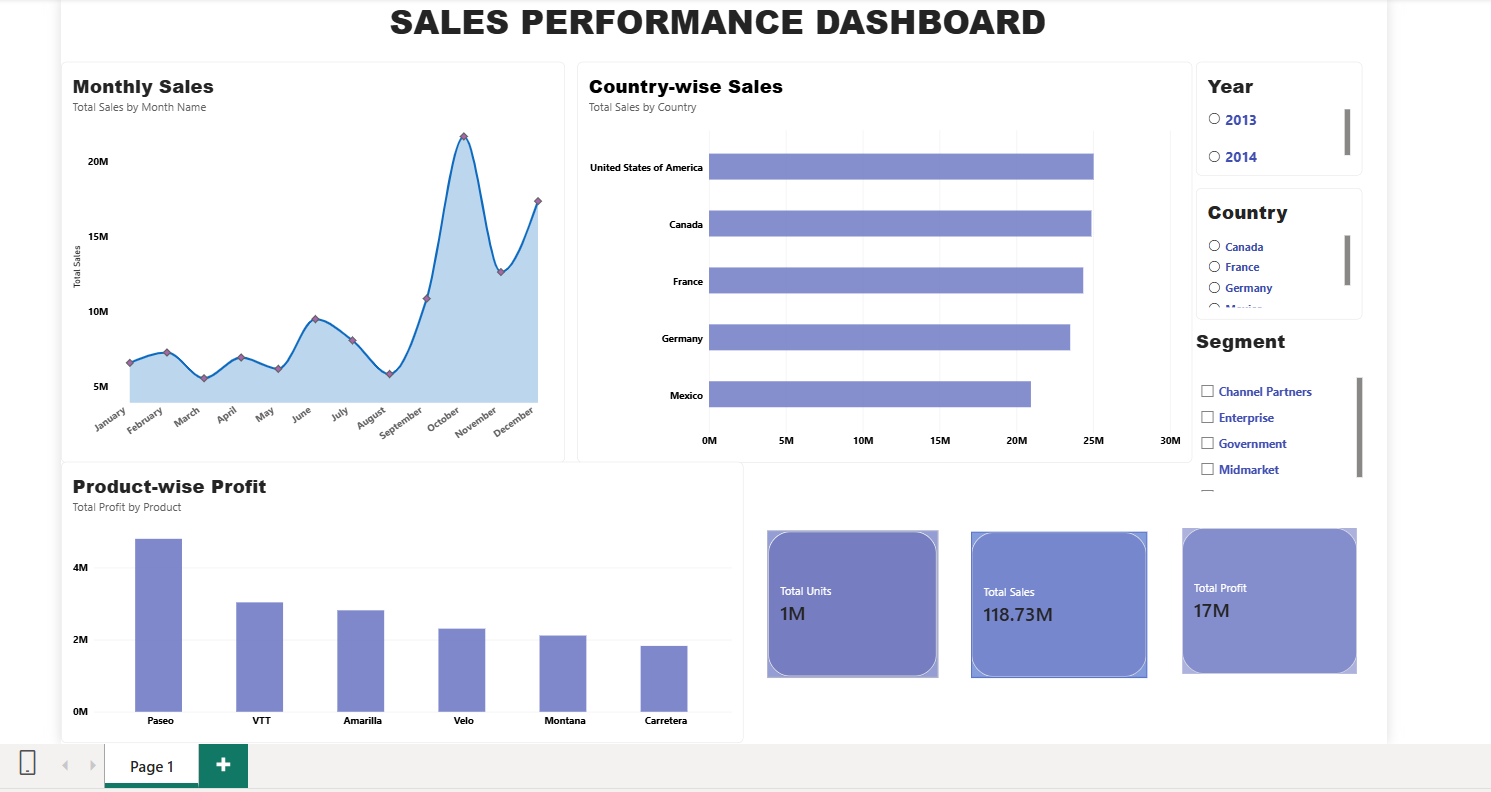

What the dashboard file says about the page in this screenshot:
{"tool":"powerbi","page":{"name":"Page 1","canvas":[1920,1080],"ordinal":0},"visuals":[{"type":"cardVisual","fields":{"Data":["financials.Total Sales"]},"box":[1317.4,772.7,255.2,211.7],"z":0},{"type":"cardVisual","fields":{"Data":["financials.Total Profit"]},"box":[1623.3,767.3,253.4,211.7],"z":1000},{"type":"cardVisual","title":"Total Units","fields":{"Data":["financials.Total Units Sold"]},"box":[1022.5,770.9,247.9,213.5],"z":2000},{"type":"lineChart","title":"Monthly Sales","fields":{"Category":["financials.Month Name"],"Y":["financials.Total Sales"]},"box":[0,92.3,729.3,580.9],"z":3000},{"type":"clusteredBarChart","title":"Country-wise Sales","fields":{"Category":["financials.Country"],"Y":["financials.Total Sales"]},"box":[747.4,92.3,890.4,580.9],"z":4000},{"type":"clusteredColumnChart","title":"Product-wise Profit","fields":{"Category":["financials.Product"],"Y":["financials.Total Profit"]},"box":[0,671.4,988.1,407.2],"z":5000},{"type":"listSlicer","fields":{"Values":["financials.Year"]},"box":[1643.2,92.3,240.7,164.7],"z":6000},{"type":"listSlicer","fields":{"Values":["financials.Country"]},"box":[1643.2,275.1,240.7,190],"z":7000},{"type":"slicer","title":"Segment","fields":{"Values":["financials.Segment"]},"box":[1643.2,477.8,240.7,237.1],"z":8000},{"type":"textbox","box":[0,0,1920.1,92.3],"z":8001}]}

Visuals, with their boxes on the page's 1920x1080 design canvas (x1, y1, x2, y2). These are canvas units, not pixel positions in the 1491x792 screenshot, which may show the page scaled, cropped or inside an application window:
cardVisual - financials.Total Sales: box(1317, 773, 1573, 984)
cardVisual - financials.Total Profit: box(1623, 767, 1877, 979)
"Total Units" cardVisual: box(1022, 771, 1270, 984)
"Monthly Sales" lineChart: box(0, 92, 729, 673)
"Country-wise Sales" clusteredBarChart: box(747, 92, 1638, 673)
"Product-wise Profit" clusteredColumnChart: box(0, 671, 988, 1079)
listSlicer - financials.Year: box(1643, 92, 1884, 257)
listSlicer - financials.Country: box(1643, 275, 1884, 465)
"Segment" slicer: box(1643, 478, 1884, 715)
textbox: box(0, 0, 1920, 92)
